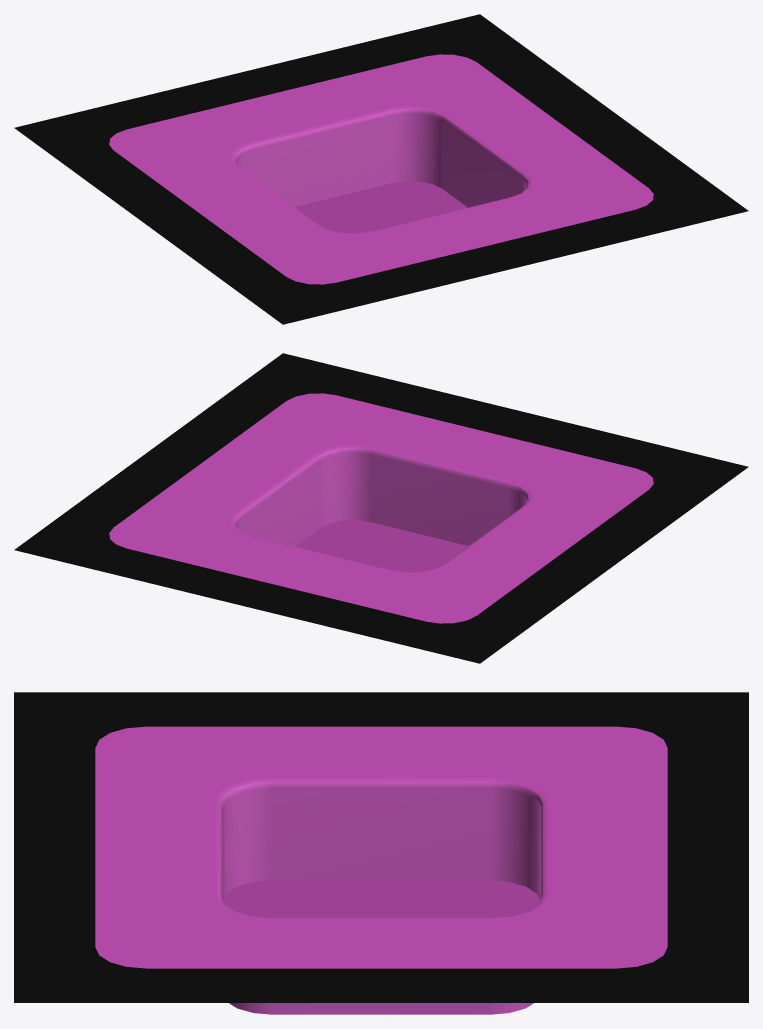
File: Cell_Purple_V3.fbx
3 views of the same model, one above another, from view 1: azimuth 30°, elevation 25°; view 2: azimuth 150°, elevation 25°; view 3: azimuth 270°, elevation 25° (orthographic). The views are drawn at different scales.
Parts seen in each view (by area): view 1: Tile_Purple, Cell_Border; view 2: Tile_Purple, Cell_Border; view 3: Tile_Purple, Cell_Border.
Boxes of the visible parts, <box> form: Tile_Purple: <box>109,54,653,284</box>; Cell_Border: <box>14,14,748,324</box>; Tile_Purple: <box>109,393,653,623</box>; Cell_Border: <box>14,353,748,663</box>; Tile_Purple: <box>95,726,667,1014</box>; Cell_Border: <box>14,692,748,1002</box>.
Bounding box in the file's own units: 112 × 16.8 × 112.
